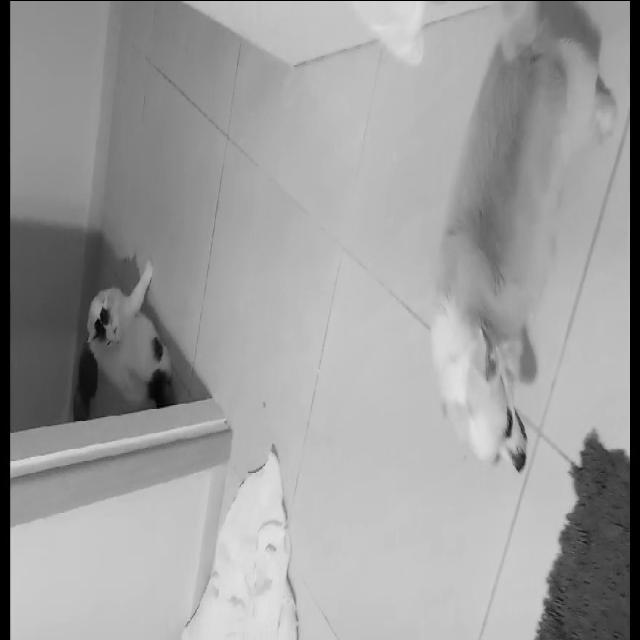Simba: (71, 256, 185, 408)
Theo: (426, 2, 640, 486)
